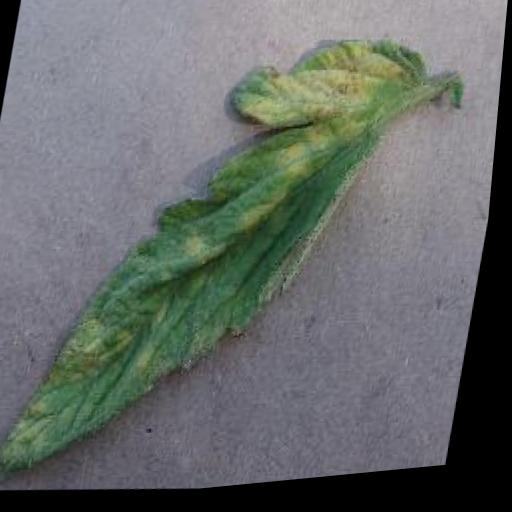Leaf Mold: (1, 14, 442, 508)
